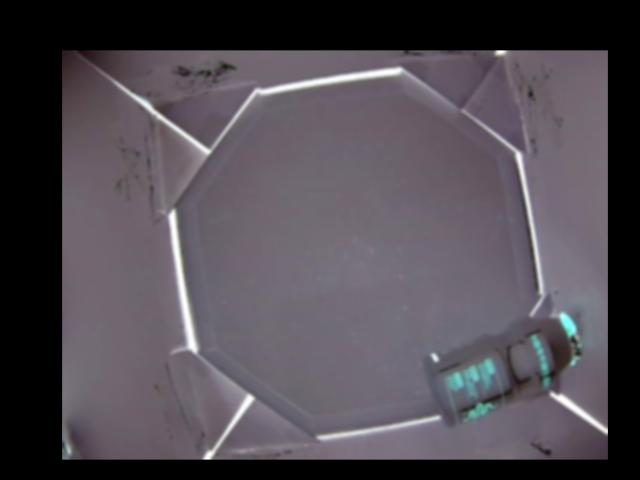Bottle: (422, 312, 583, 432)
